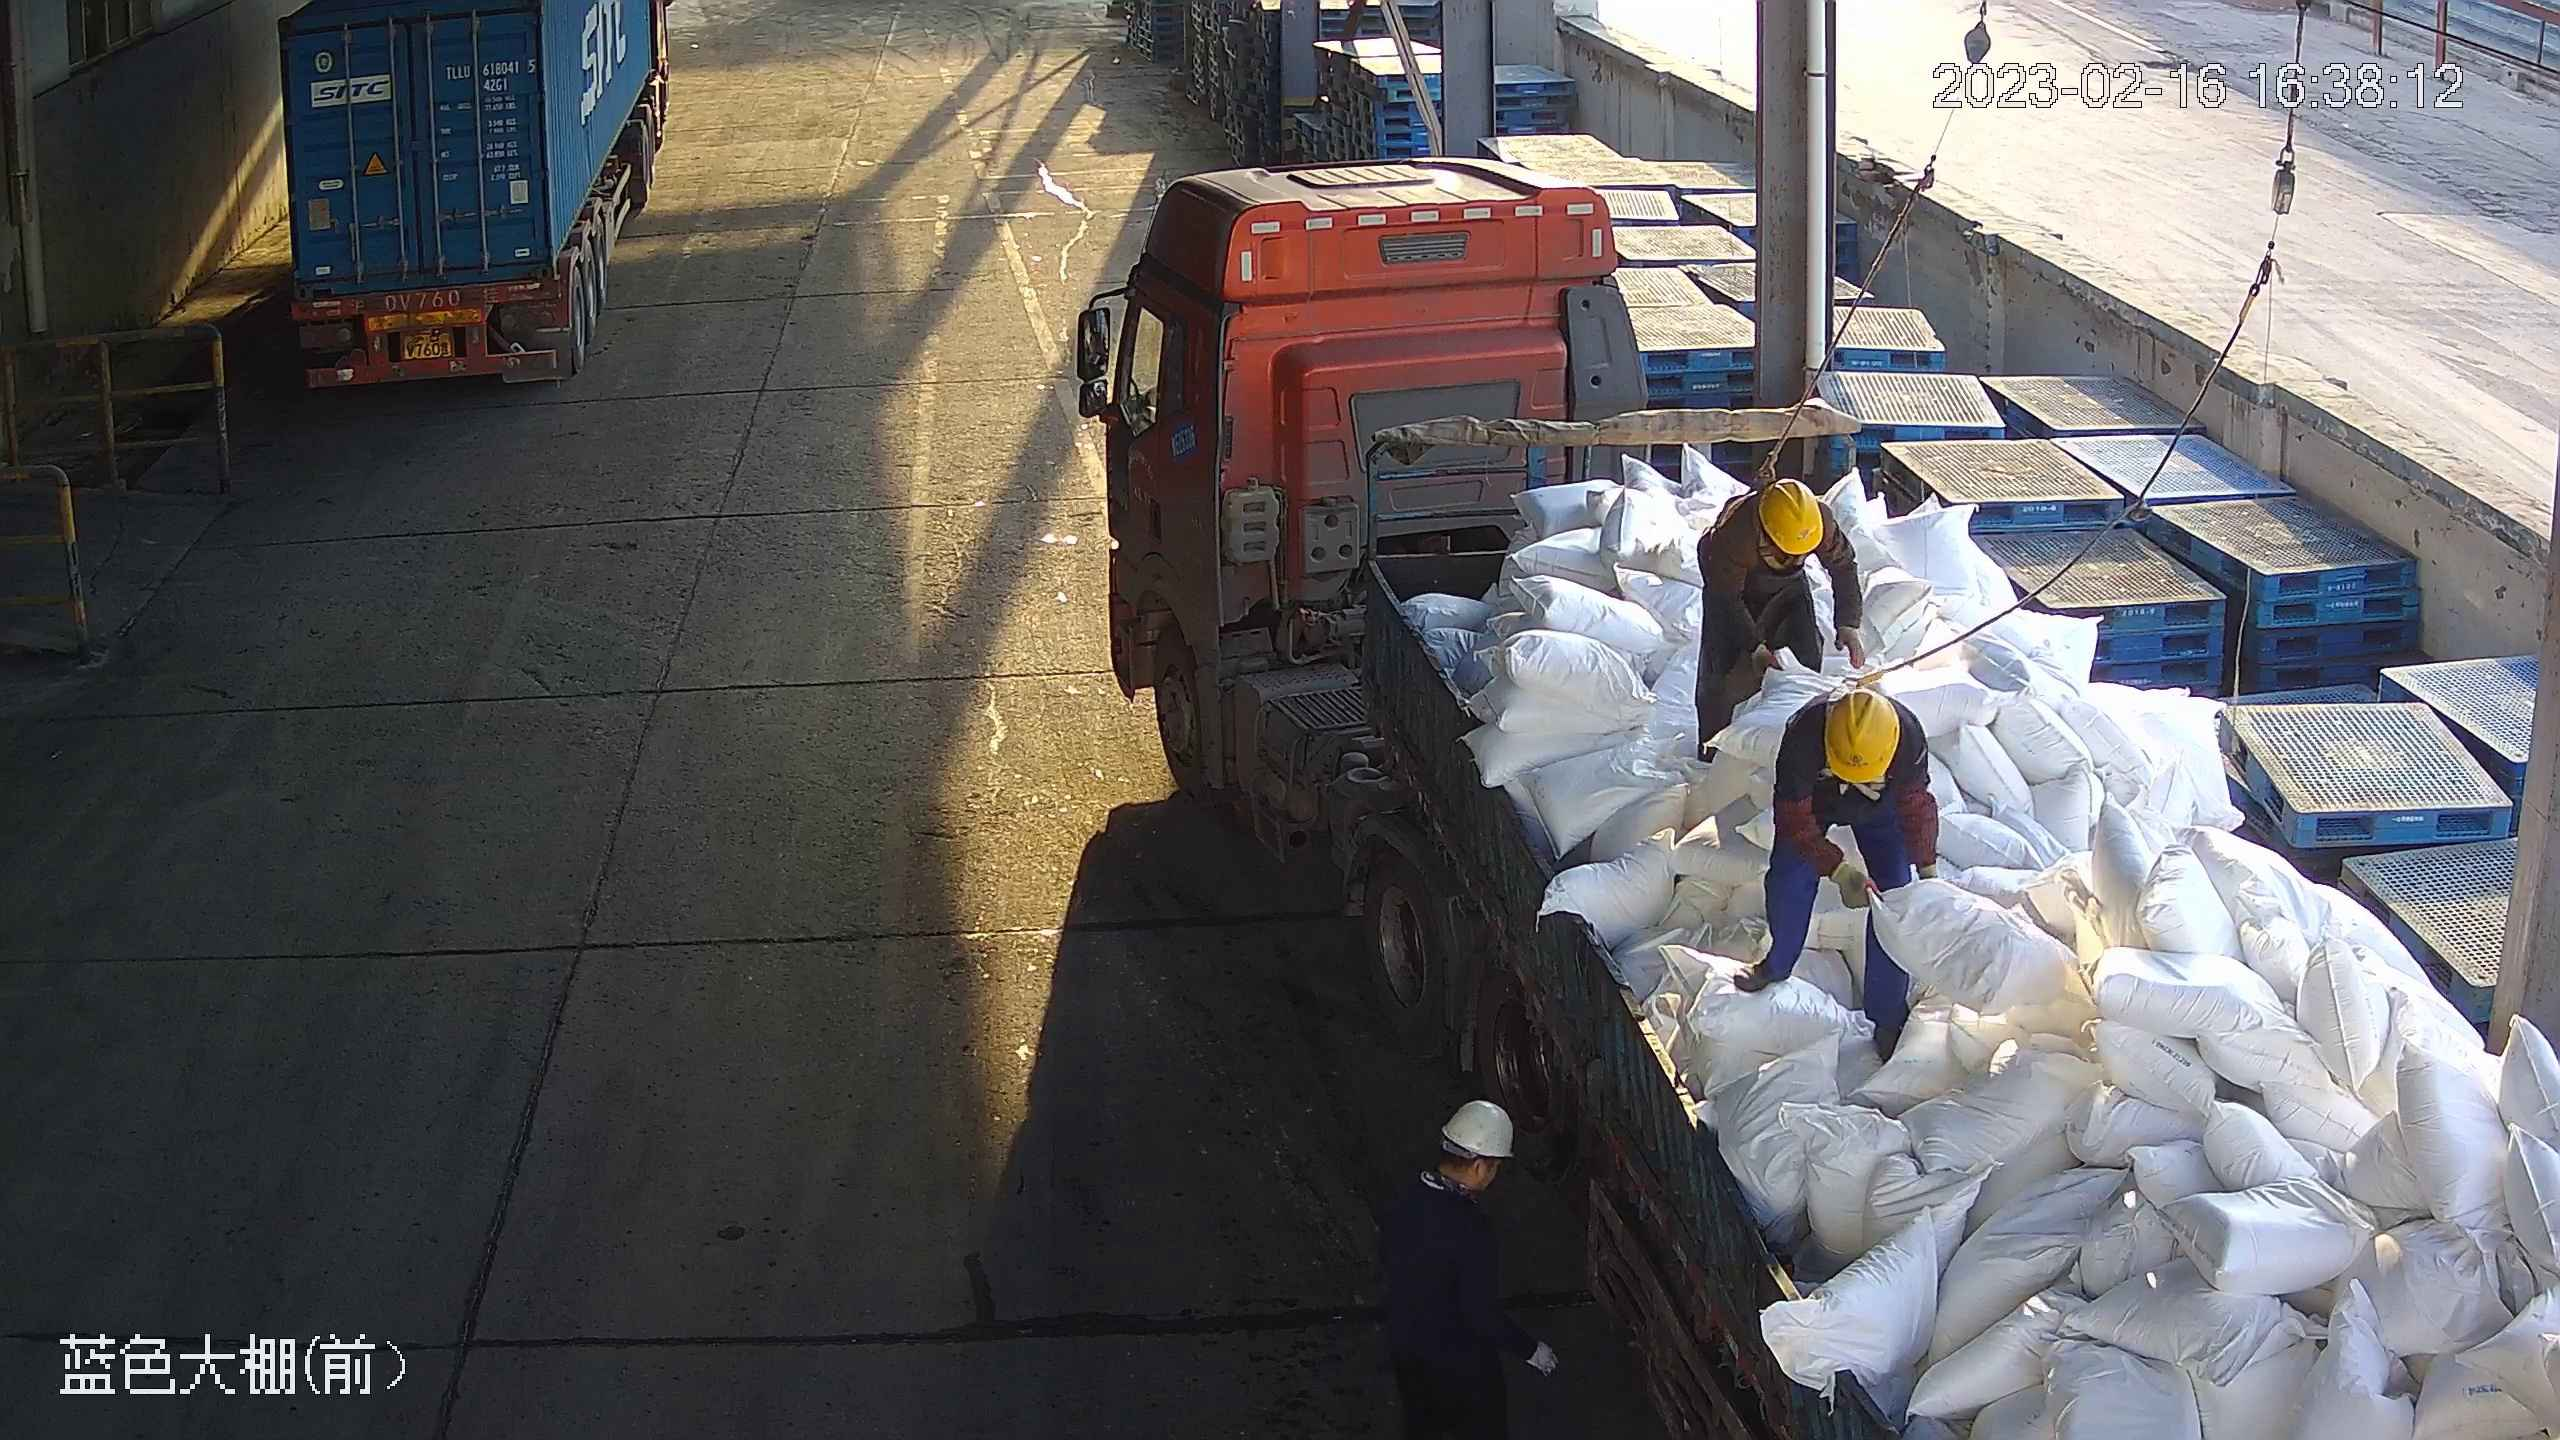belt: (1716, 458, 1786, 523), (1844, 760, 1905, 813)
head: (1690, 464, 1866, 584), (1770, 697, 1944, 812)
helmet: (1749, 473, 1831, 554), (1825, 693, 1892, 777)
people: (1742, 683, 1944, 1056), (1683, 471, 1870, 760)
truck: (1073, 153, 2560, 1440), (255, 3, 683, 384)
